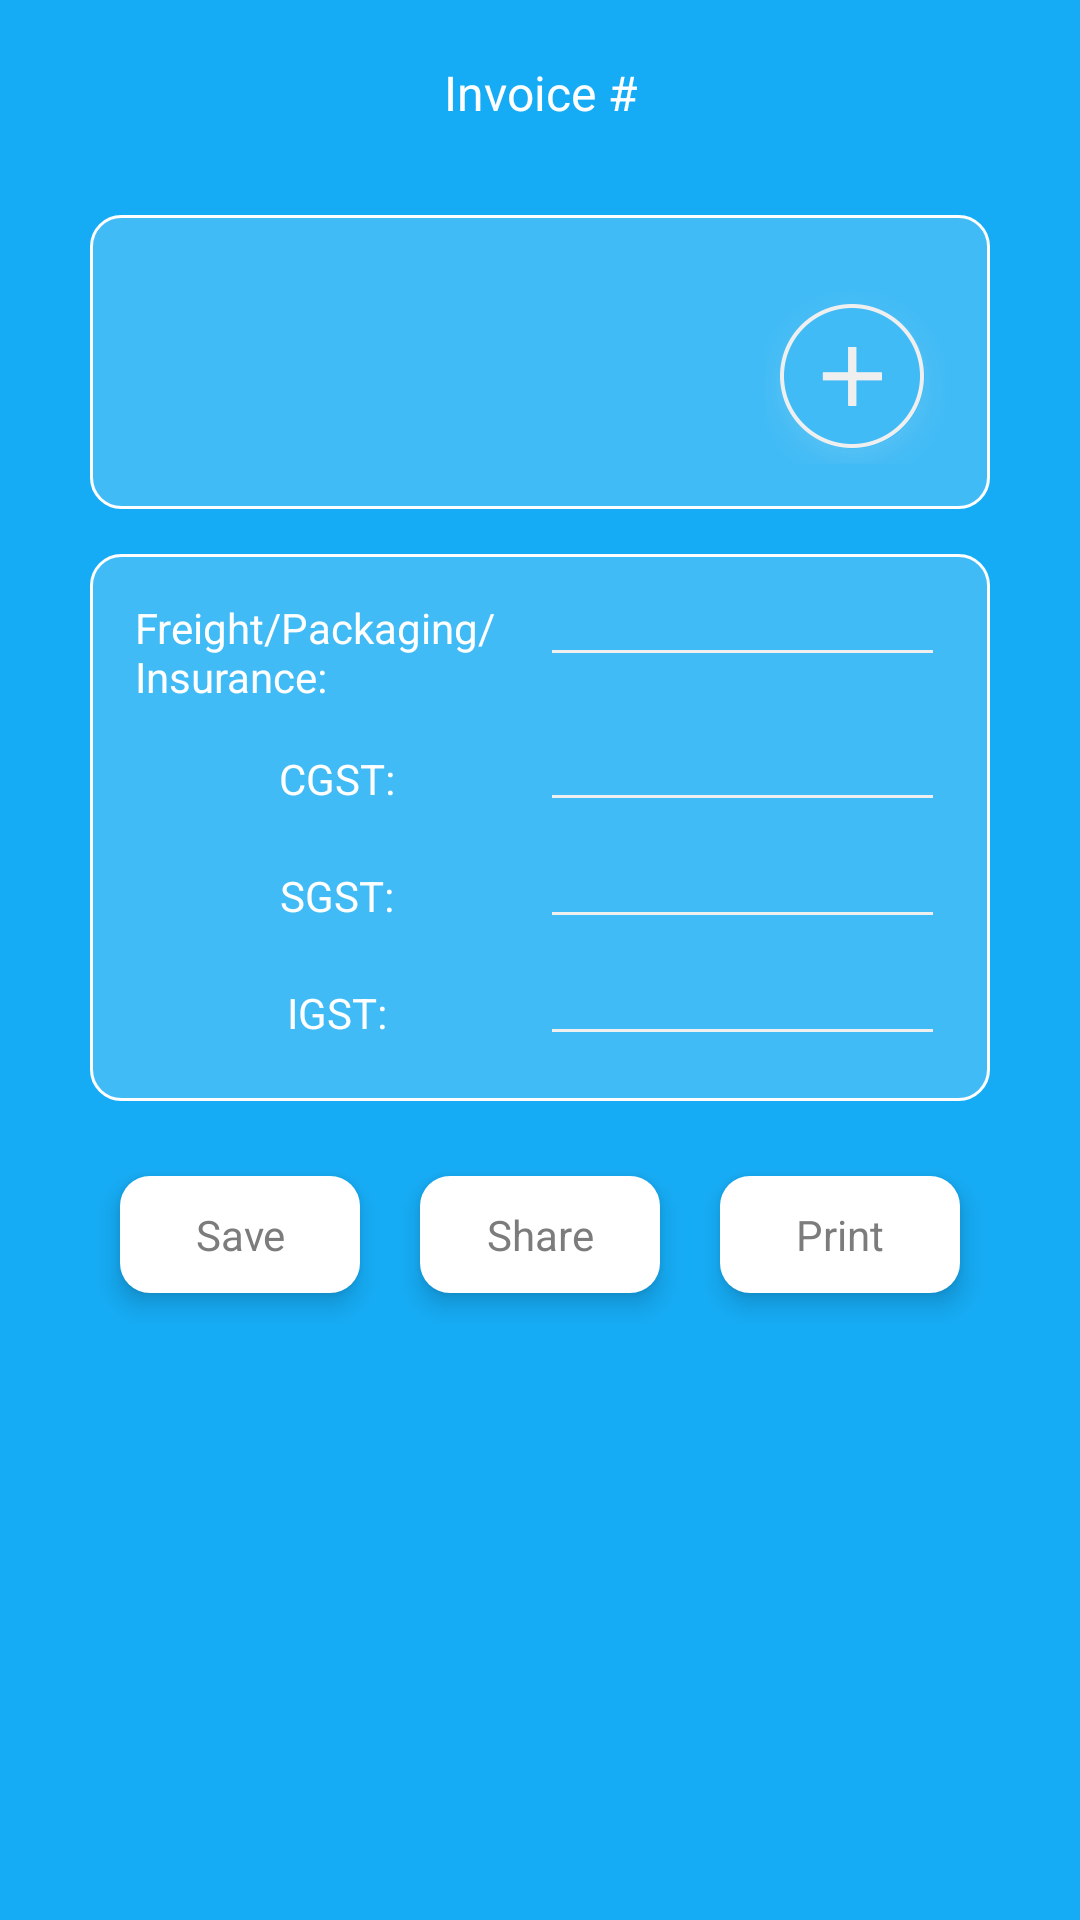

Point at icon controls on the screen. Image size 1080 x 1920, points as [x,y].
add floating: [852,376]
